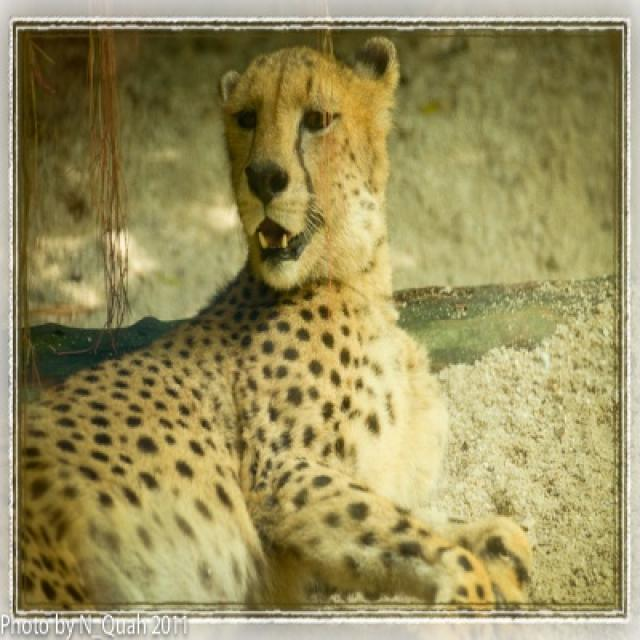Cheetah: (18, 38, 533, 613)
